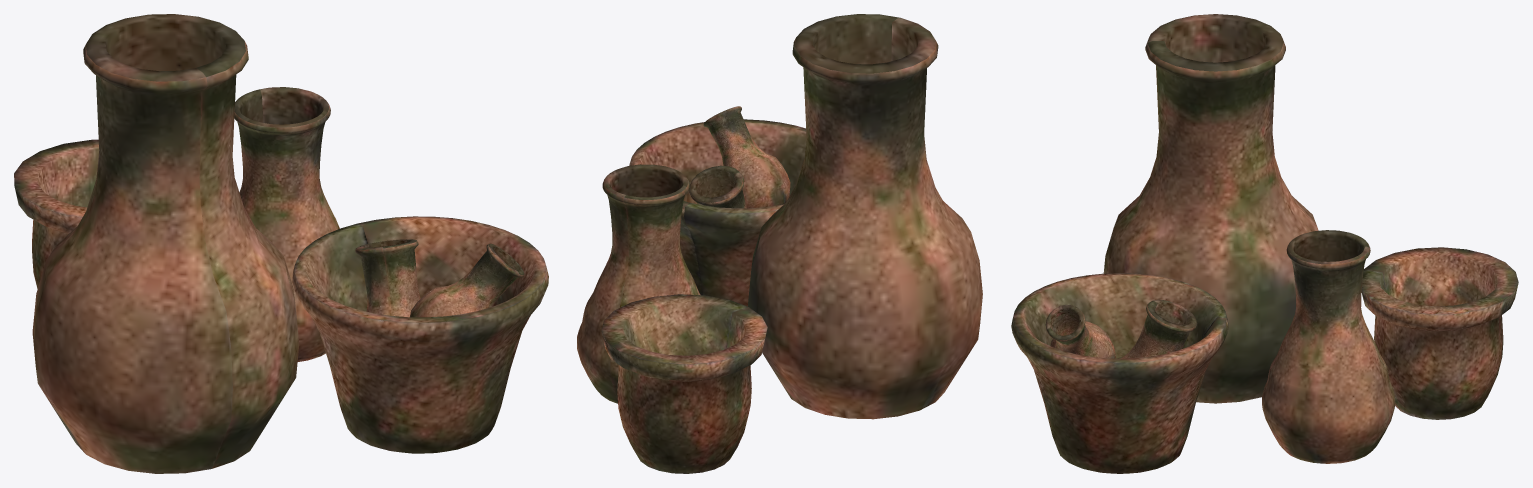
Rendered from obj_ancient_clay_pots.glb.
3 views of the same model, side by side, from view 1: azimuth 30°, elevation 25°; view 2: azimuth 150°, elevation 25°; view 3: azimuth 270°, elevation 25° (orthographic). The views are drawn at different scales.
Parts seen in each view (by area): view 1: Object_10; view 2: Object_10; view 3: Object_10.
Boxes of the visible parts, x1,y1,x2,y2 form: Object_10: (14,14,548,473); Object_10: (577,14,982,473); Object_10: (1011,14,1518,473).
Bounding box in the file's own units: 0.3278 × 0.2871 × 0.4.
2 materials, 2 textured.
